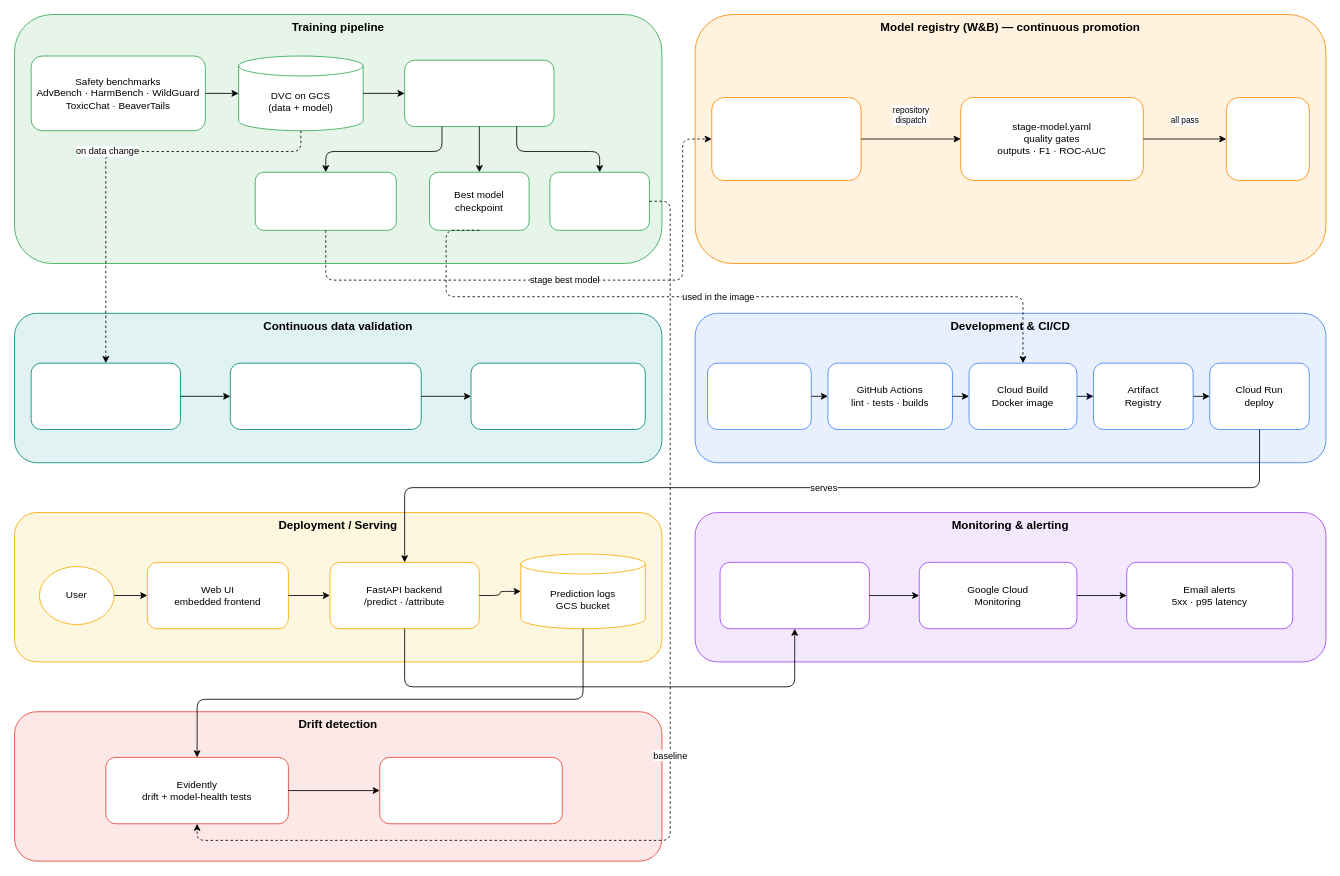
Some shapes in this 1340 by 876 pixel diagram are drawn without their labels. Here are the shapes that lost their labels. From the top down, the centre of each, then its label:
point 479,93: DistilBERT training PyTorch Lightning + Hydra
point 786,139: W&B Model Registry new model version staged
point 1267,139: tagged as production model
point 325,200: Weights & Biases tracking + sweeps
point 599,200: baseline.csv drift snapshot
point 105,396: DVC metadata change (push / PR)
point 325,396: cml-data.yaml pull data · preprocess · data tests
point 557,396: CML integrity report as updating PR comment
point 759,396: GitHub repository
point 794,595: Prometheus /metrics
point 470,790: Drift report served at /monitoring
